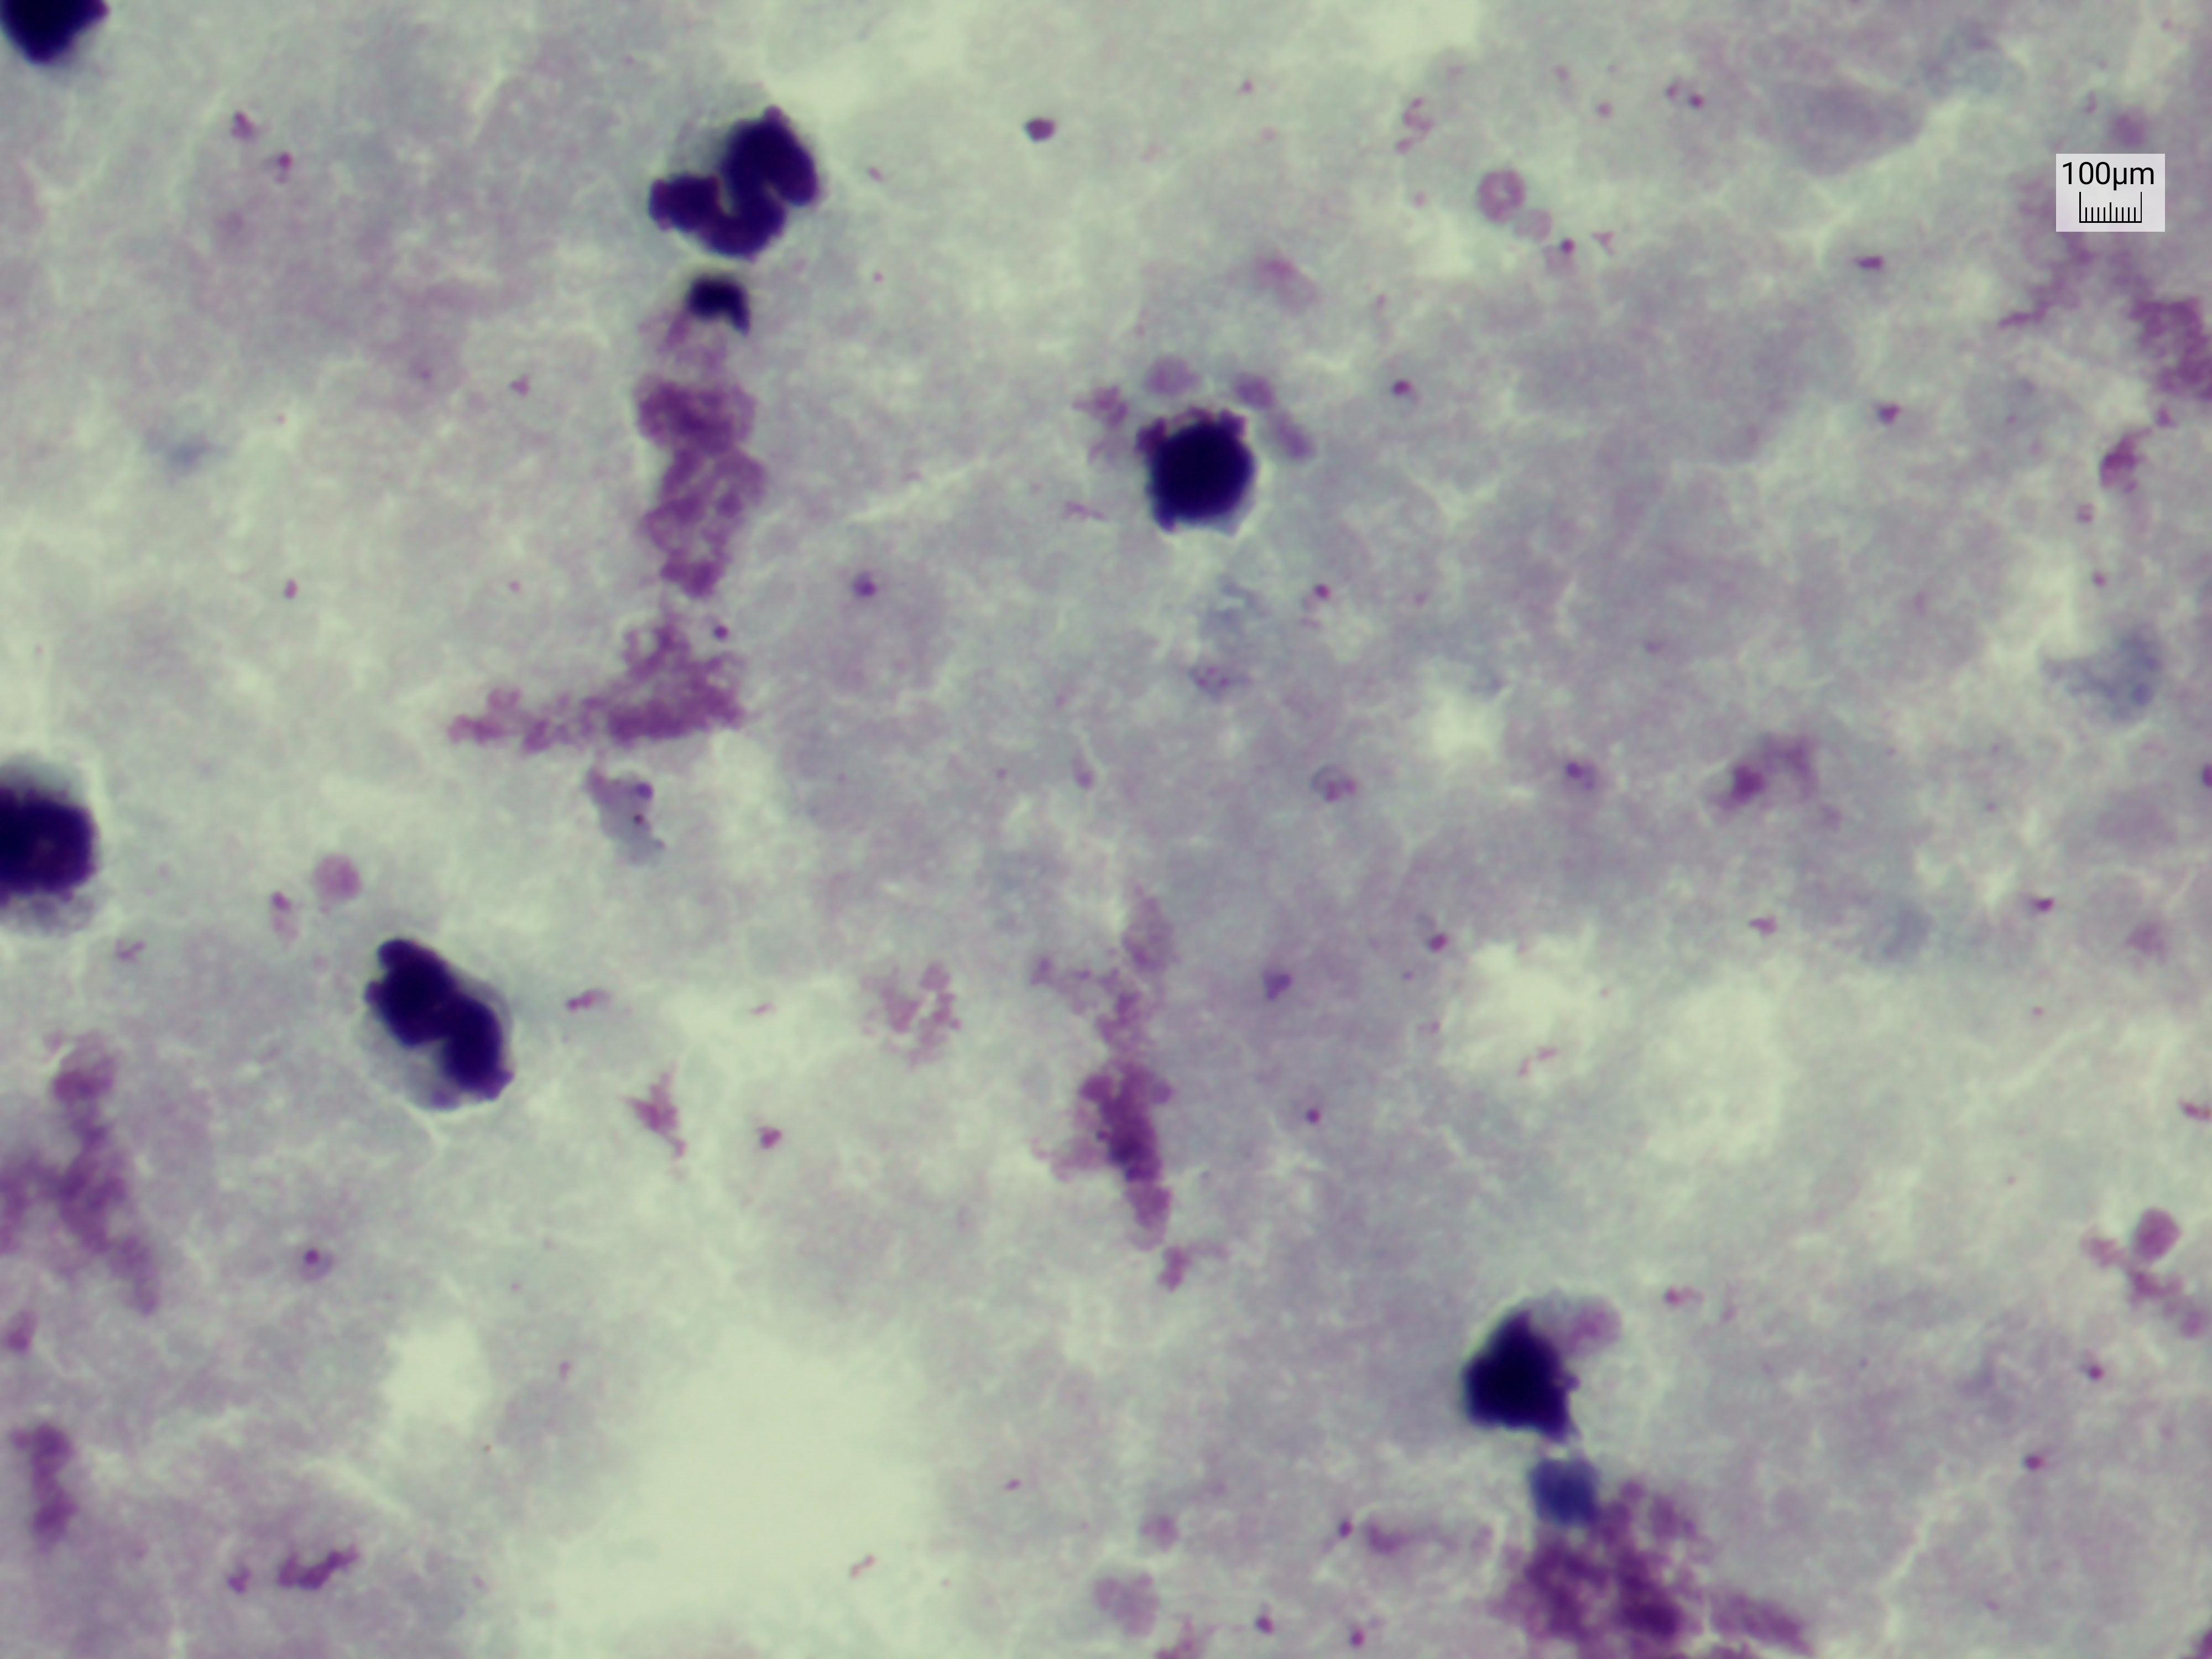p.falciparum: (211, 92, 305, 213), (819, 554, 934, 641), (1827, 221, 1923, 321), (1634, 1244, 1717, 1349), (1855, 368, 1932, 462), (1369, 352, 1442, 448), (740, 1112, 820, 1197), (1552, 744, 1625, 836), (1651, 51, 1723, 132), (1310, 1488, 1386, 1561), (2062, 1337, 2144, 1403), (1233, 950, 1305, 1025), (1291, 554, 1357, 634), (1399, 899, 1468, 972), (286, 1220, 341, 1305), (2010, 1431, 2074, 1500), (1271, 1087, 1336, 1152), (2008, 866, 2062, 943), (1242, 1582, 1303, 1649), (1534, 220, 1590, 291), (693, 601, 756, 650)
